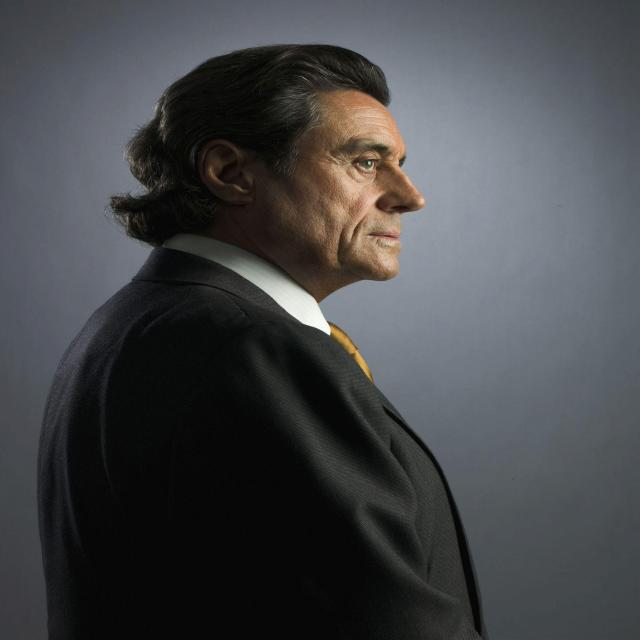no-earmuff: (181, 118, 280, 215)
